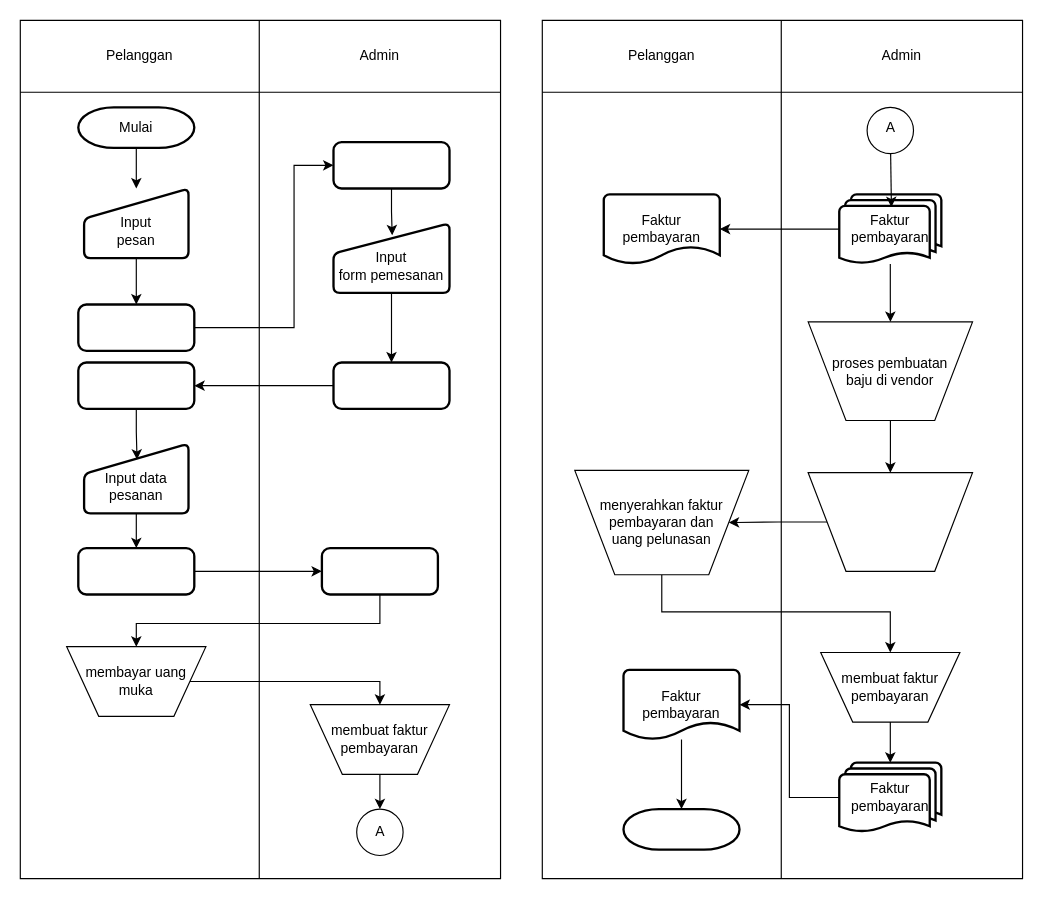
Image size: 1043x899. Some labels were removed from this diagram. The centre of each missing label's shape, as x and y in pixels:
"menerima data pesanan" goes at (379,570).
"menerima form pemesanan" goes at (136,385).
"menerima pesan" goes at (391,164).
"mengirim data pesanan" goes at (136,570).
"mengirim form pemesanan" goes at (391,385).
"mengirim pesan" goes at (136,327).
"penyerahan baju ke pelanggan" goes at (890,521).
"Selesai" goes at (681,828).
